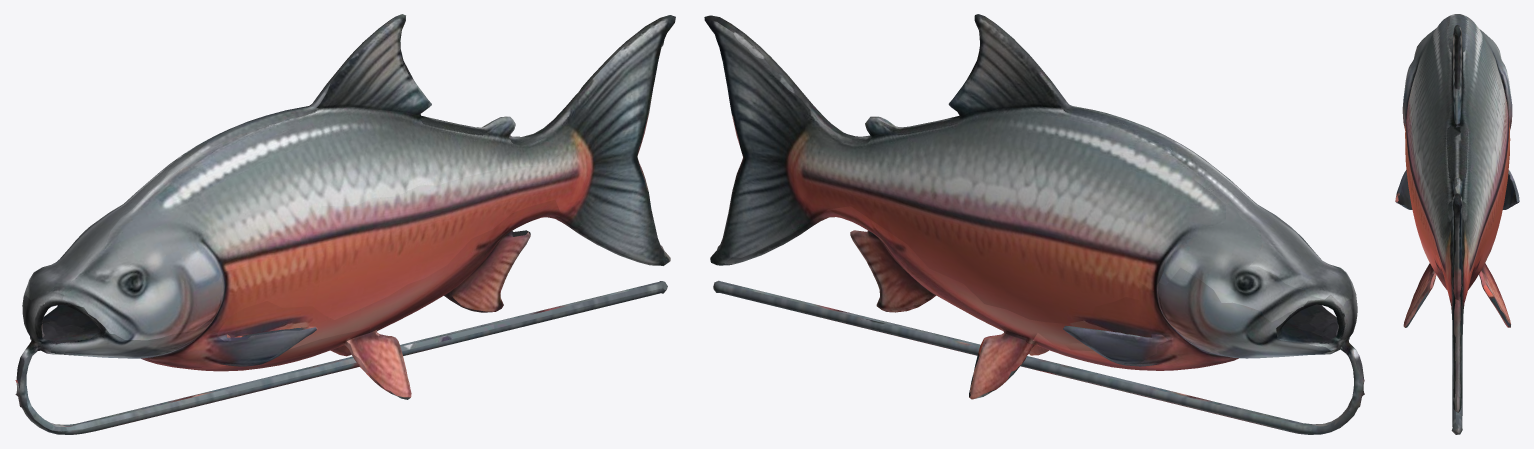
The model's file is fish_spokerun.glb.
The picture shows the model from 3 angles, left to right: view 1: azimuth 30°, elevation 25°; view 2: azimuth 150°, elevation 25°; view 3: azimuth 270°, elevation 25°; orthographic projection. The views are drawn at different scales.
Visible parts, largest first — view 1: fish_spokerun; view 2: fish_spokerun; view 3: fish_spokerun.
Part boxes in pixels (bbox=[...]): fish_spokerun: bbox=[15, 14, 675, 434]; fish_spokerun: bbox=[704, 14, 1364, 434]; fish_spokerun: bbox=[1395, 14, 1519, 434].
Bounding box in the file's own units: 1 × 0.5171 × 0.1873.
Materials: 1 (1 with a texture image).
